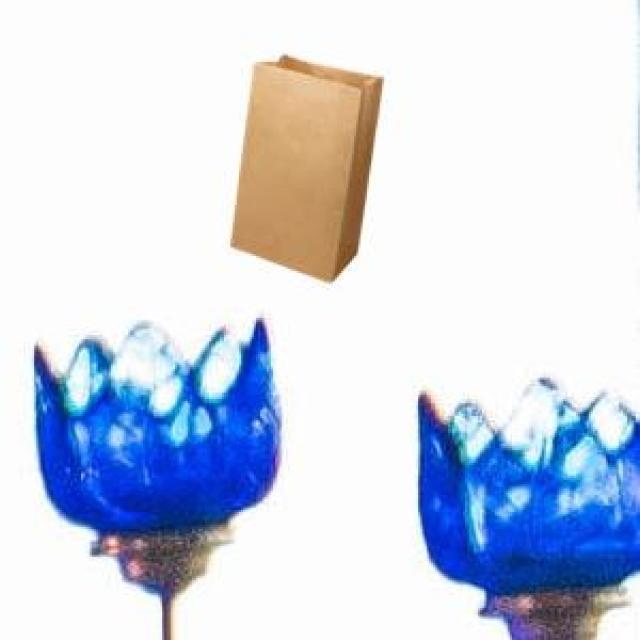paper: (226, 51, 378, 277)
